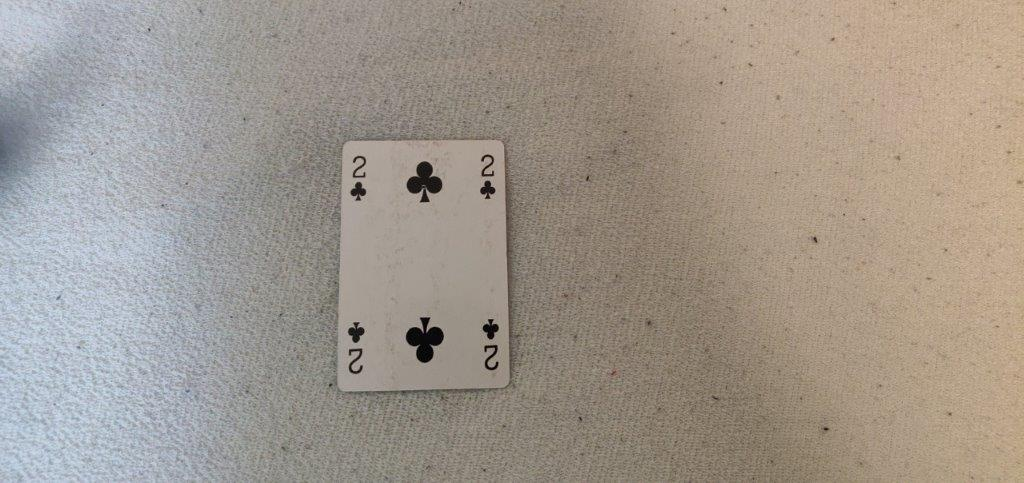2C: (476, 149, 500, 205), (349, 154, 372, 210)
